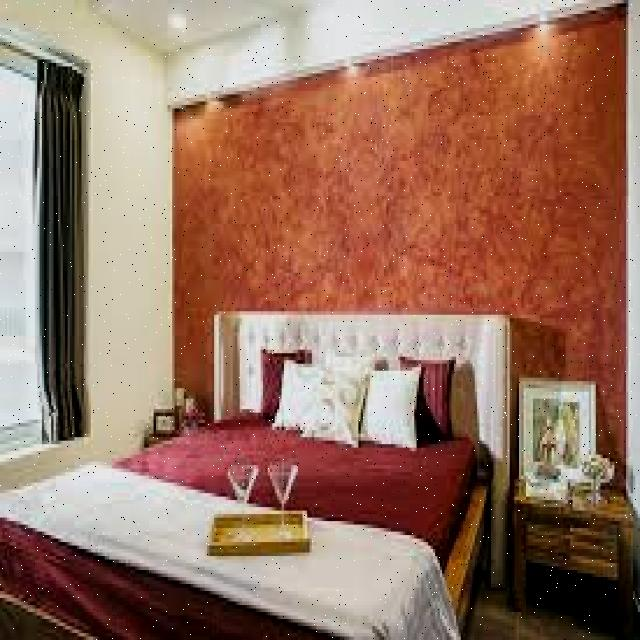bed: (0, 304, 519, 640)
